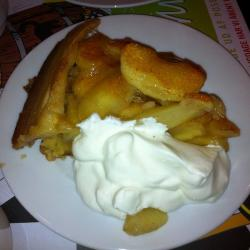apple_pie: (20, 19, 243, 158)
chantilly: (70, 115, 234, 218)
